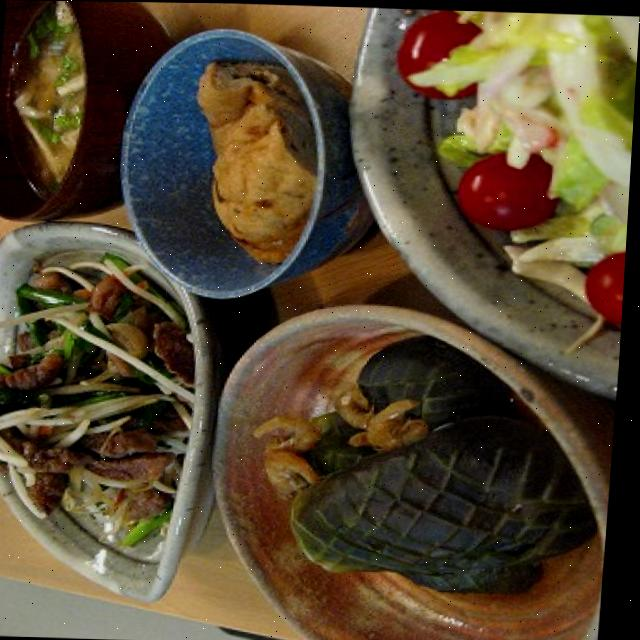熟制海鲜: (151, 48, 323, 258)
